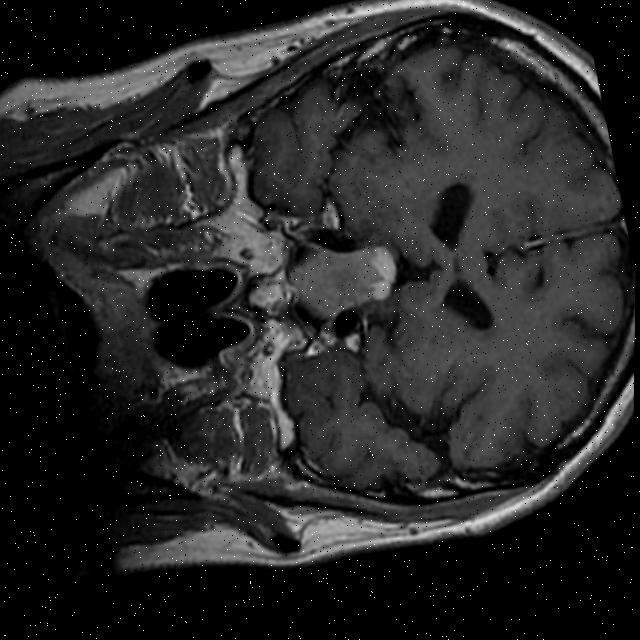Pituitary: (284, 224, 404, 324)
